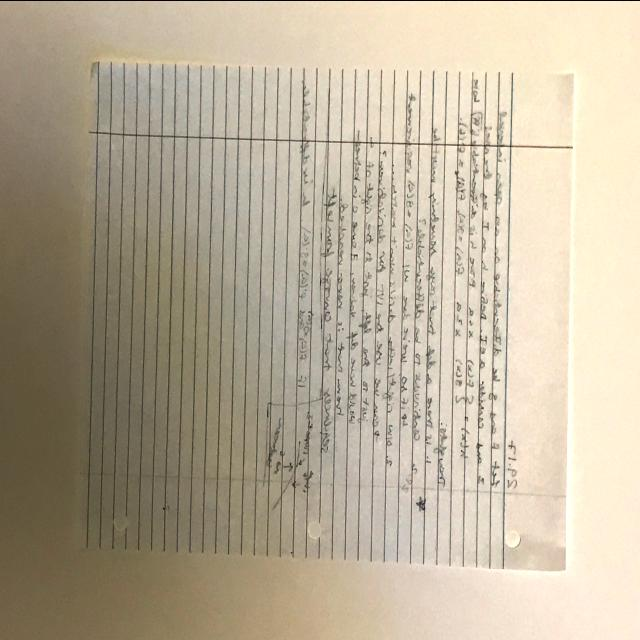Paper: (70, 68, 578, 576)
